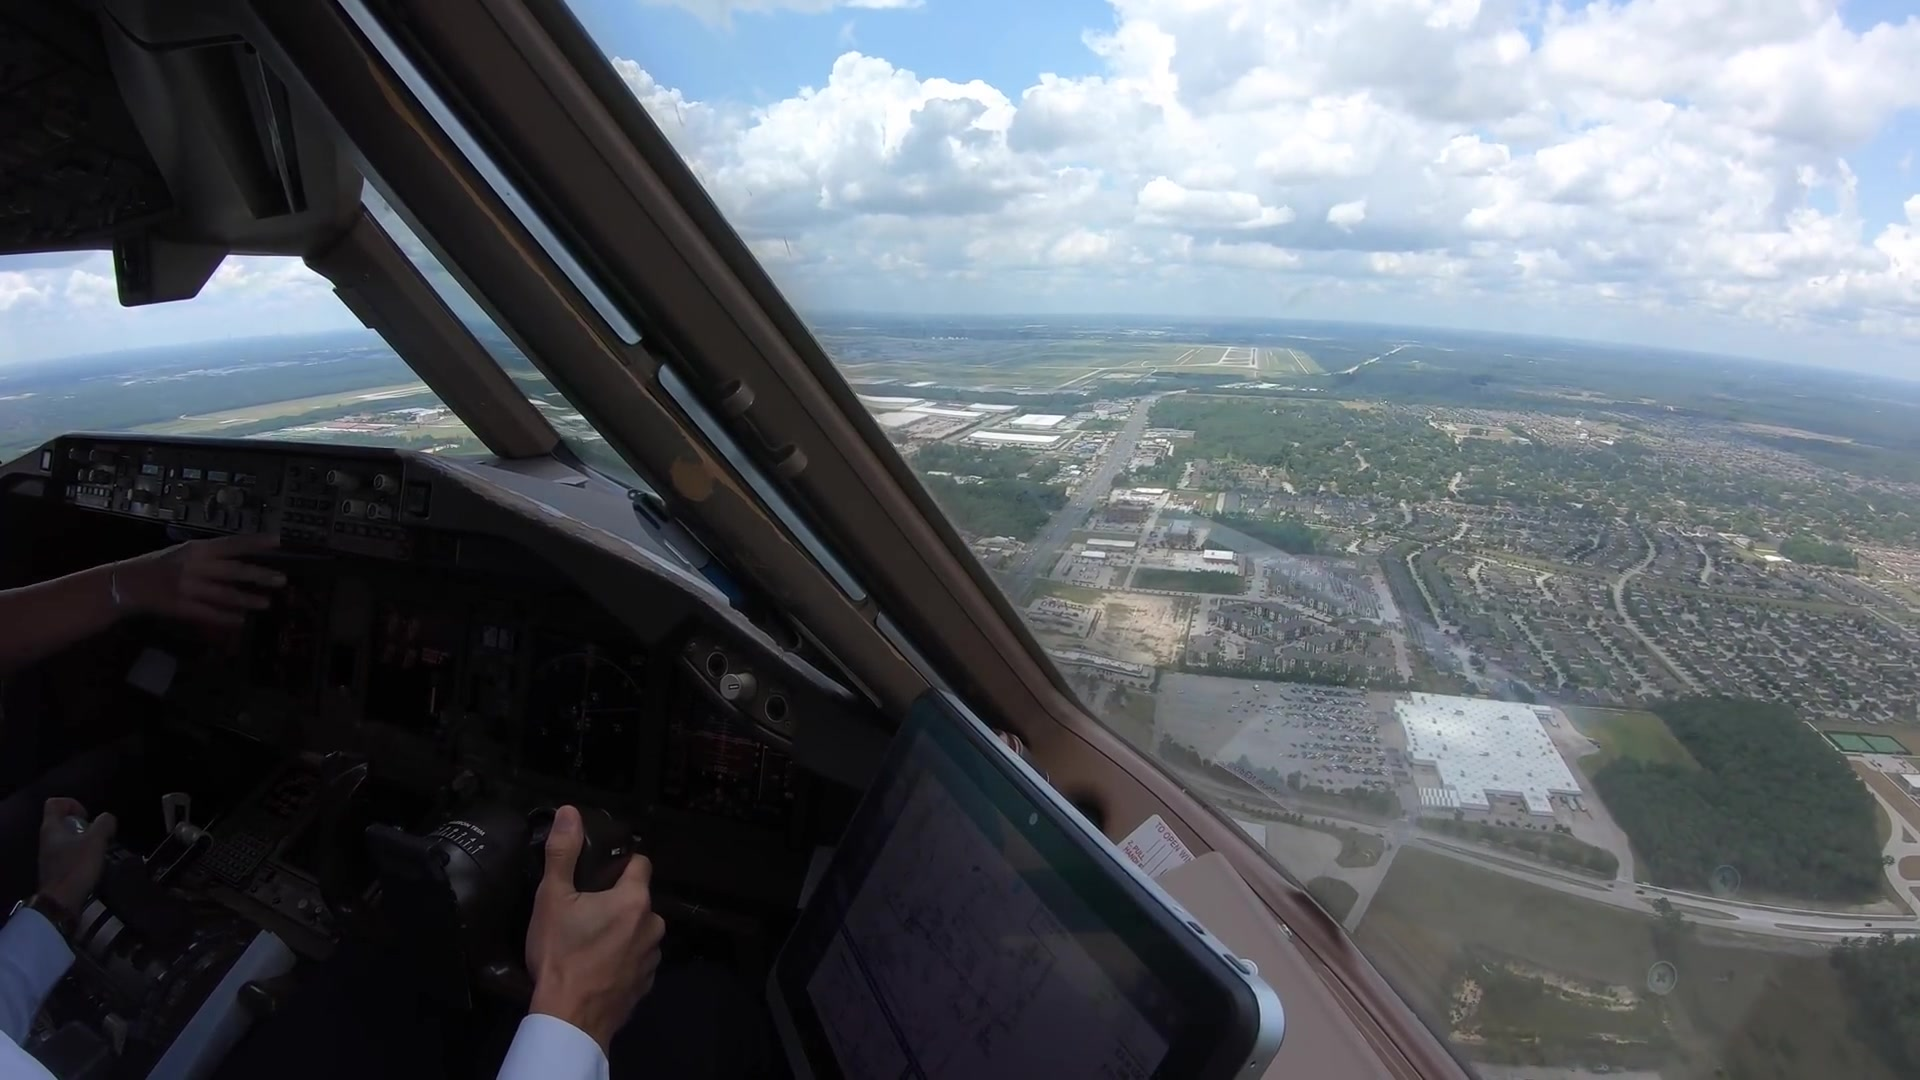runway: (1247, 347, 1258, 369)
